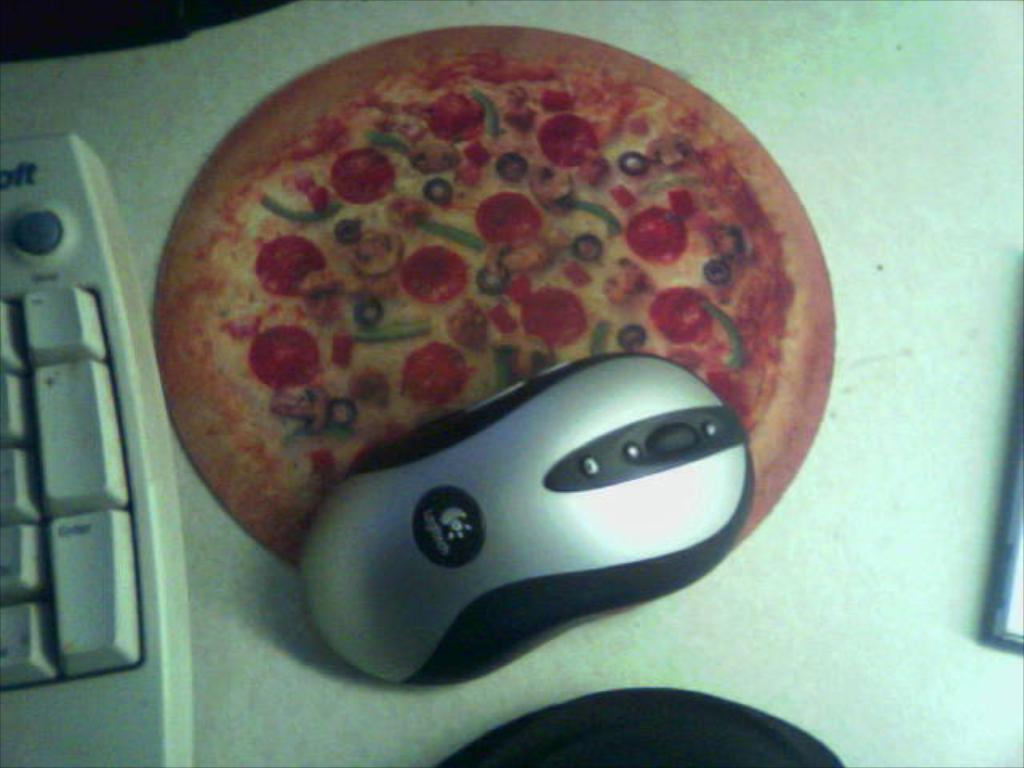Pizza: (135, 4, 817, 596)
